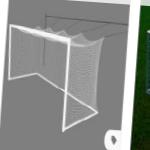goals: (8, 22, 105, 132)
